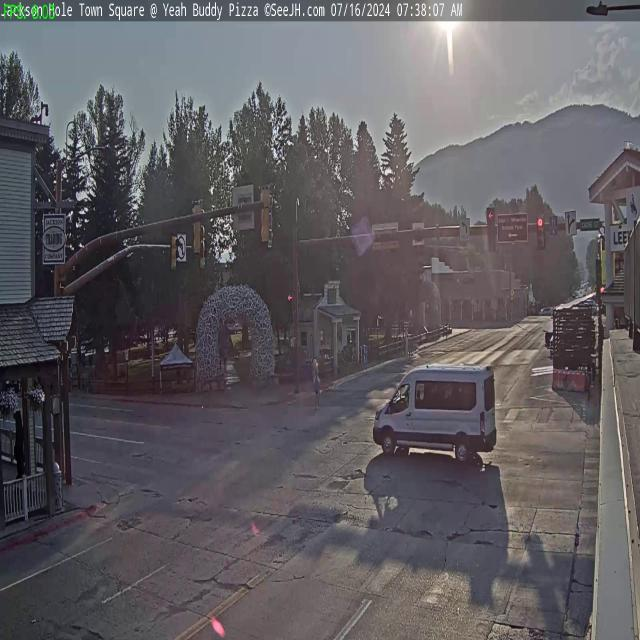person: (312, 358, 320, 411)
traffic light: (259, 184, 272, 244), (190, 199, 203, 256), (486, 208, 496, 255), (170, 233, 179, 272), (536, 216, 545, 250)
van: (372, 361, 496, 468)
